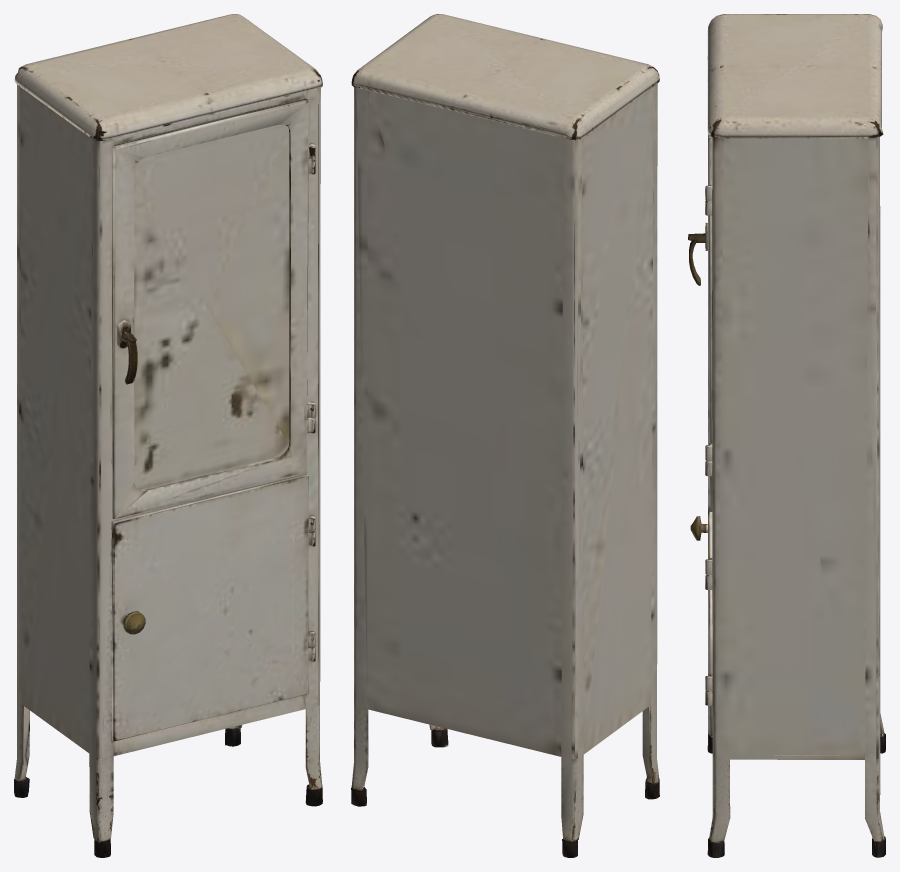
Rendered from epi_cabinet.glb.
3 renders of one model, left to right at view 1: azimuth 30°, elevation 25°; view 2: azimuth 150°, elevation 25°; view 3: azimuth 270°, elevation 25°, orthographic.
Visible parts, largest first — view 1: Mesh_0; view 2: Mesh_0; view 3: Mesh_0.
Part boxes in pixels (x1,y1,x2,y2): Mesh_0: (14, 14, 322, 857); Mesh_0: (351, 14, 659, 857); Mesh_0: (688, 14, 885, 857).
Bounding box in the file's own units: 0.5446 × 1.65 × 0.4015.
1 material, 1 textured.
